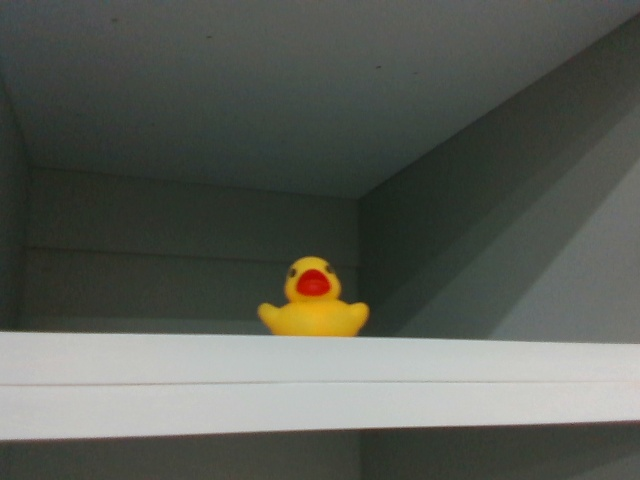duck: (257, 254, 376, 340)
